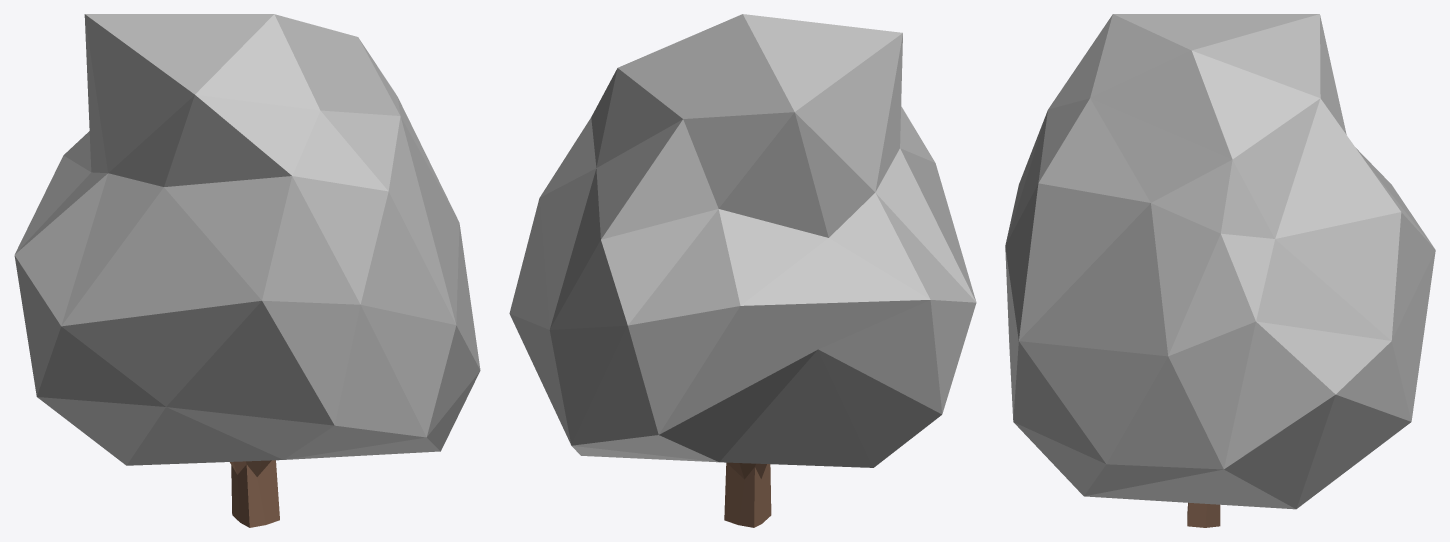
The model's file is Tree_10_White.fbx.
3 renders of one model, left to right at view 1: azimuth 30°, elevation 25°; view 2: azimuth 150°, elevation 25°; view 3: azimuth 270°, elevation 25°, orthographic. The views are drawn at different scales.
Parts seen in each view (by area): view 1: Tree_10_White; view 2: Tree_10_White; view 3: Tree_10_White.
Boxes of the visible parts, <box> form: Tree_10_White: <box>14,14,480,527</box>; Tree_10_White: <box>509,14,976,527</box>; Tree_10_White: <box>1005,14,1435,527</box>.
Size of the model in its own units: 682 by 802 by 656.
